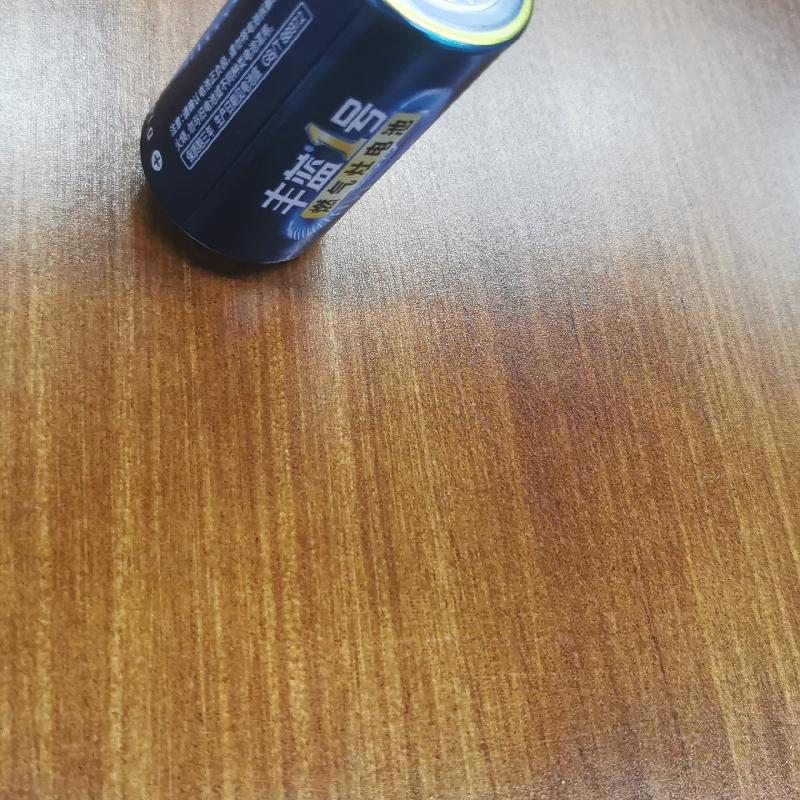battery: (132, 0, 540, 275)
